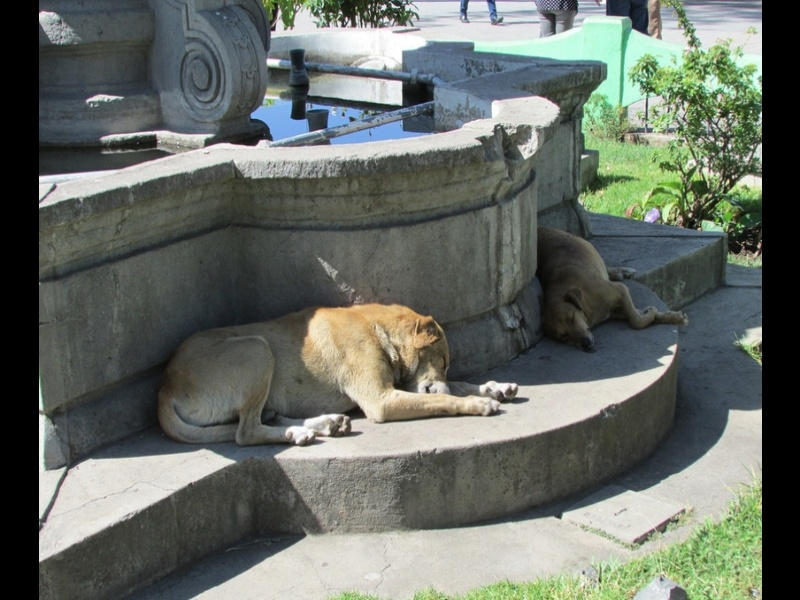dog: (147, 291, 525, 452), (520, 209, 694, 350)
